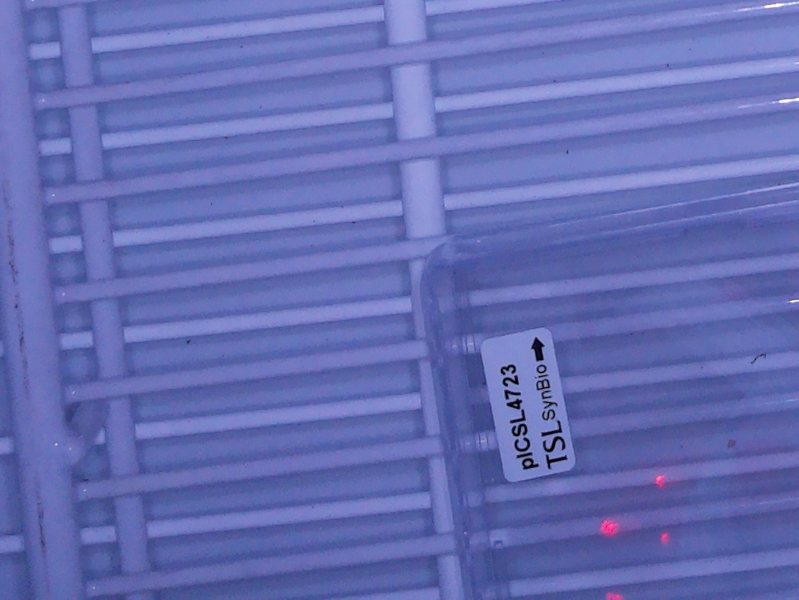plate: (421, 173, 799, 600)
